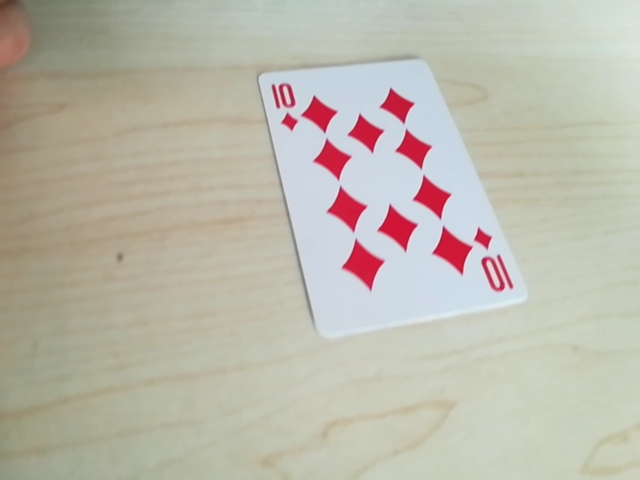fk 10: (472, 235, 515, 300), (265, 78, 308, 135)
